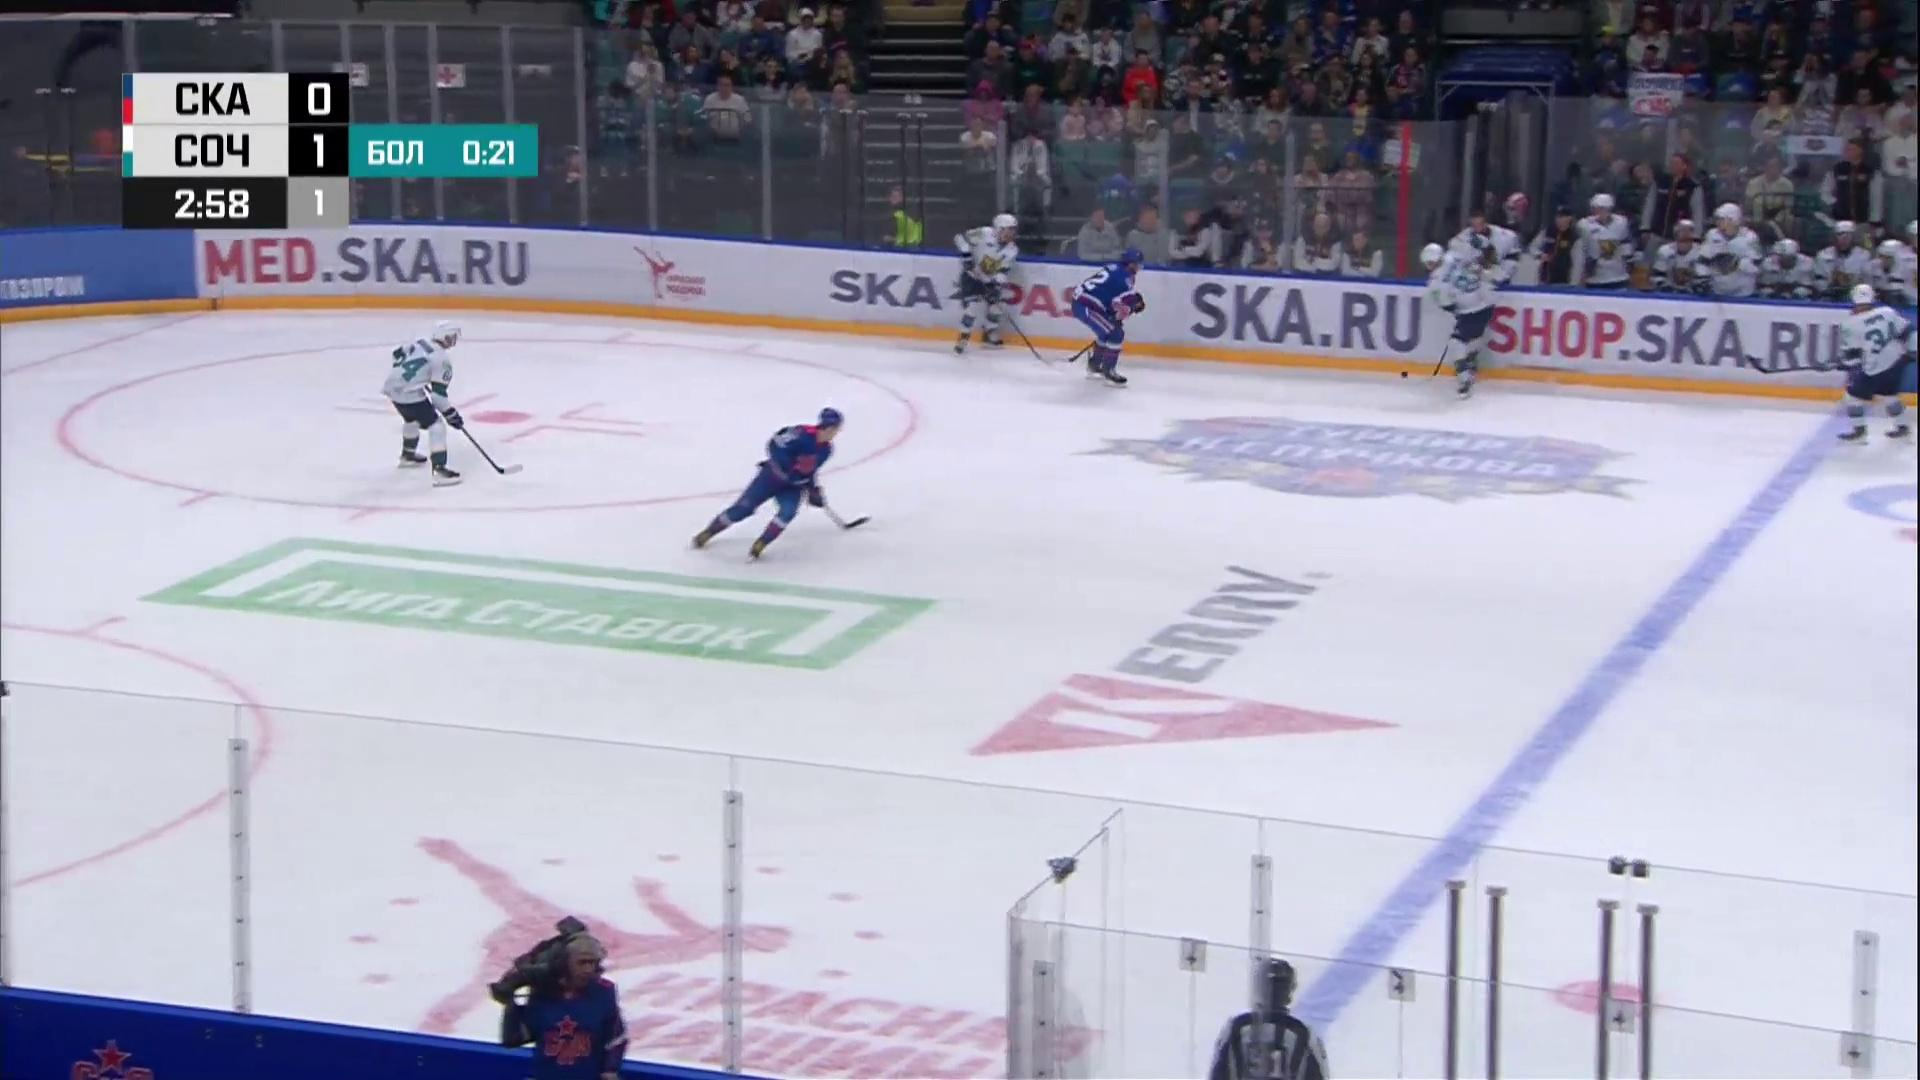ball: (1400, 371, 1408, 378)
